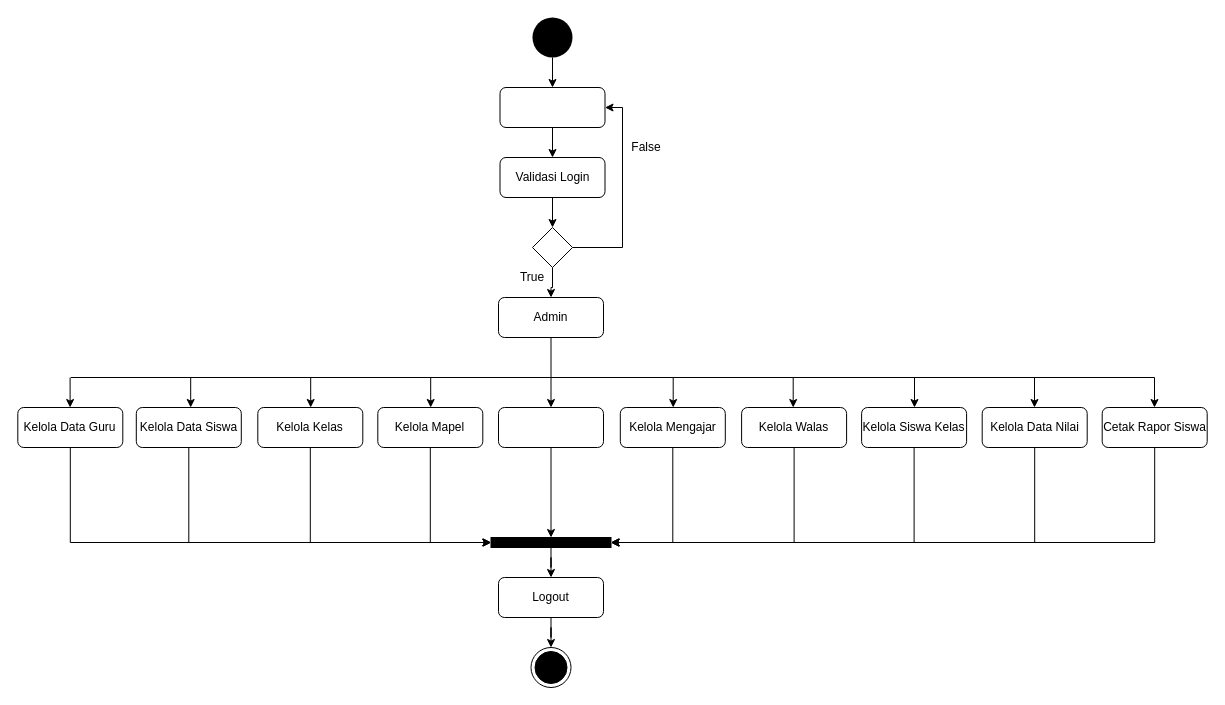
Image size: 1225x705. Some labels were removed from this diagram. Here are the shapes that lost their labels. From the top down, the box of each, then its label:
(499, 86, 605, 128): Login
(498, 406, 604, 448): Kelola Data Pengguna
